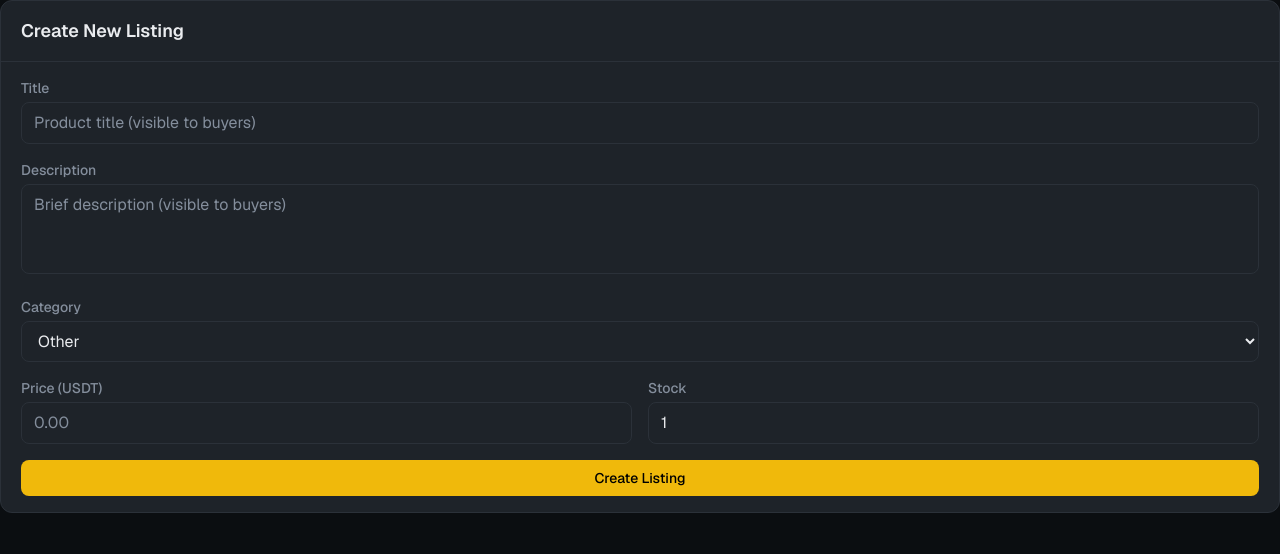
it: ProductForm › shows price error on invalid price
Step 1. Type "My Product" into the field labelled "Title" → (640, 123), box [21,102,1259,144]
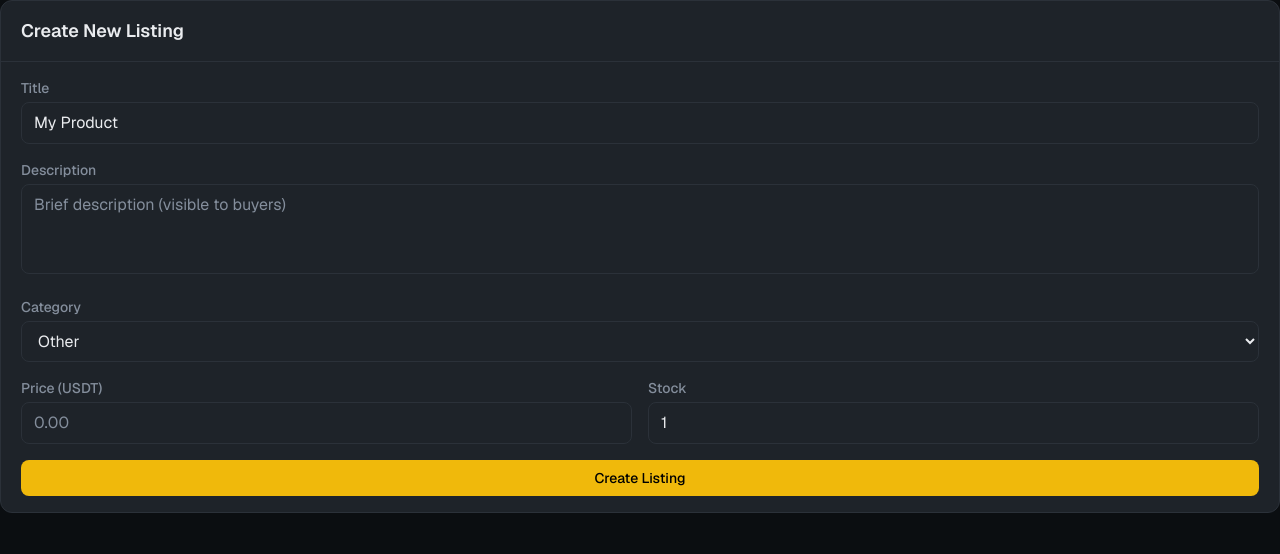
Step 2. Click the button "Create Listing" → (640, 478), box [21,460,1259,496]
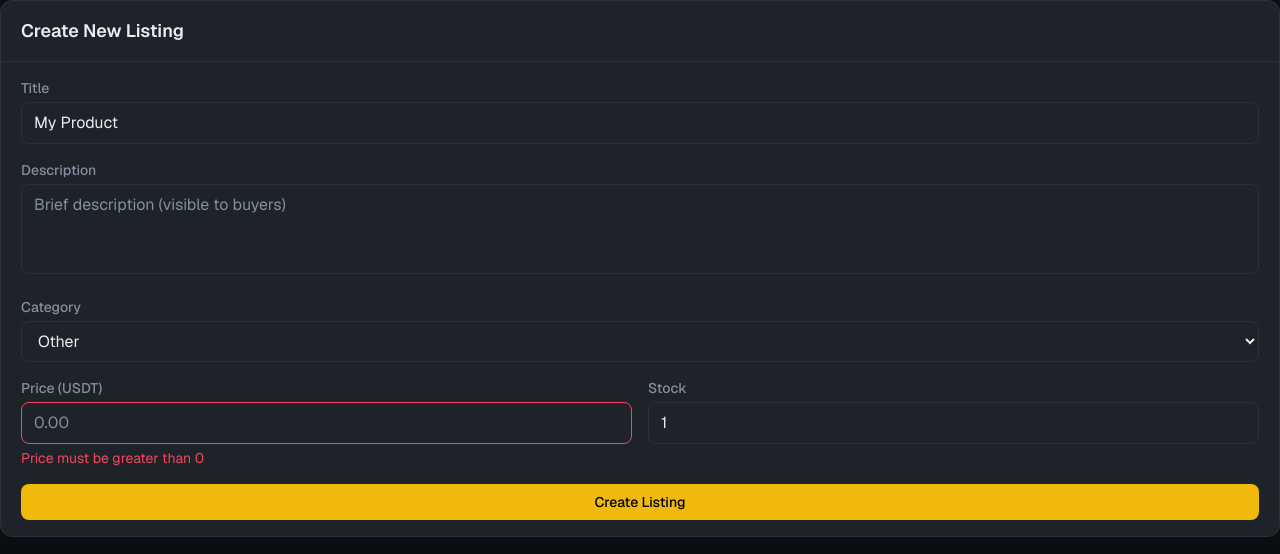
Now the text "Price must be greater than 0" is shown, box [21,449,204,467]
